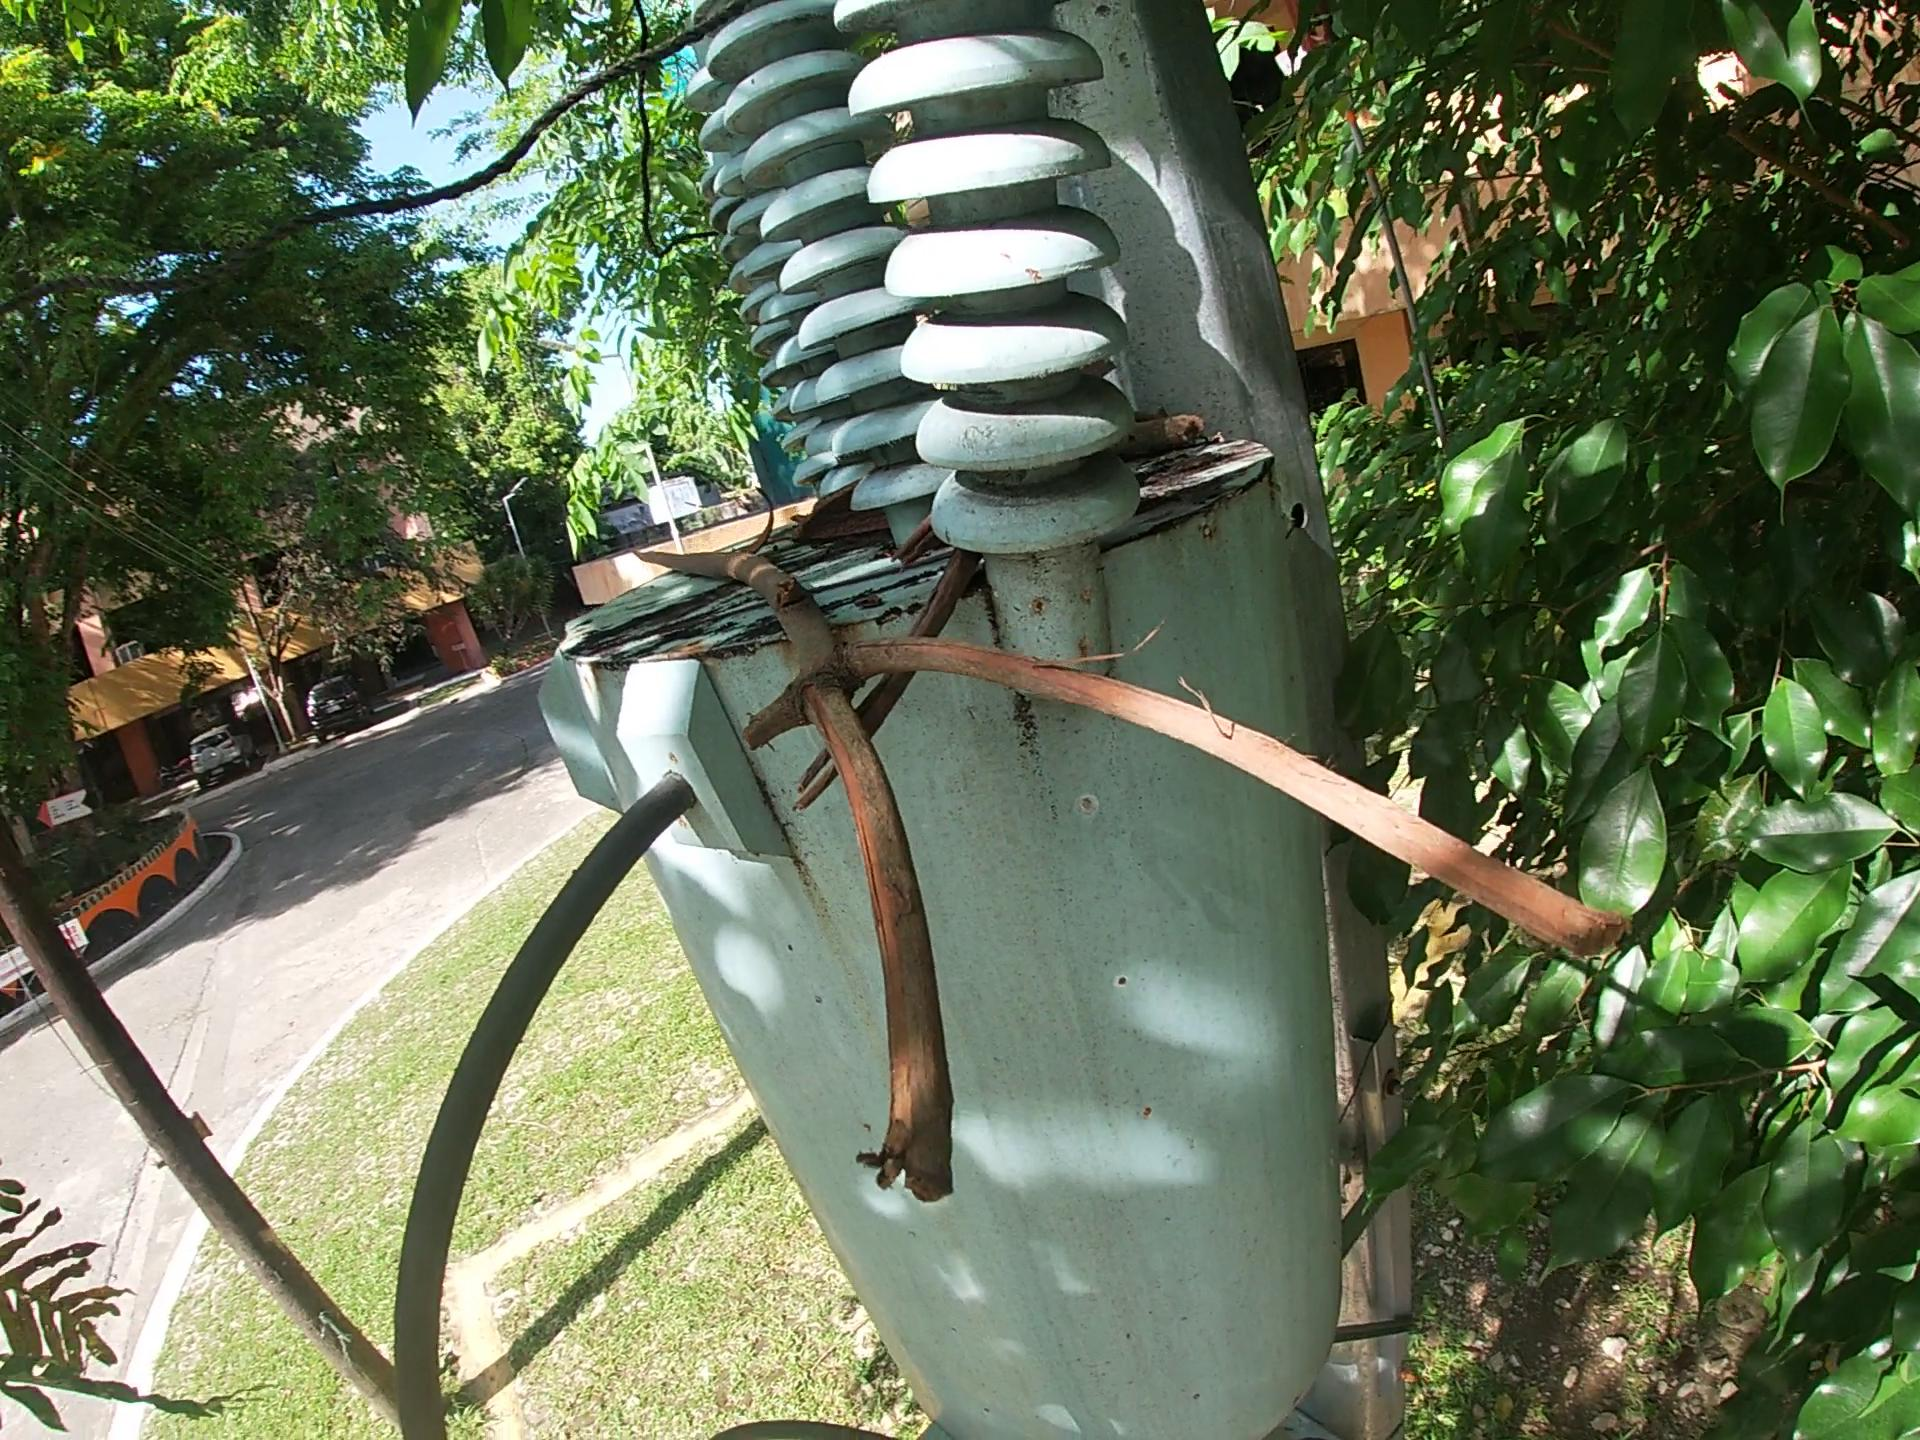mahogany fruit: (788, 476, 893, 554), (736, 486, 779, 557)
tree branch: (626, 538, 1645, 1212), (786, 516, 995, 818), (1114, 411, 1209, 464)
